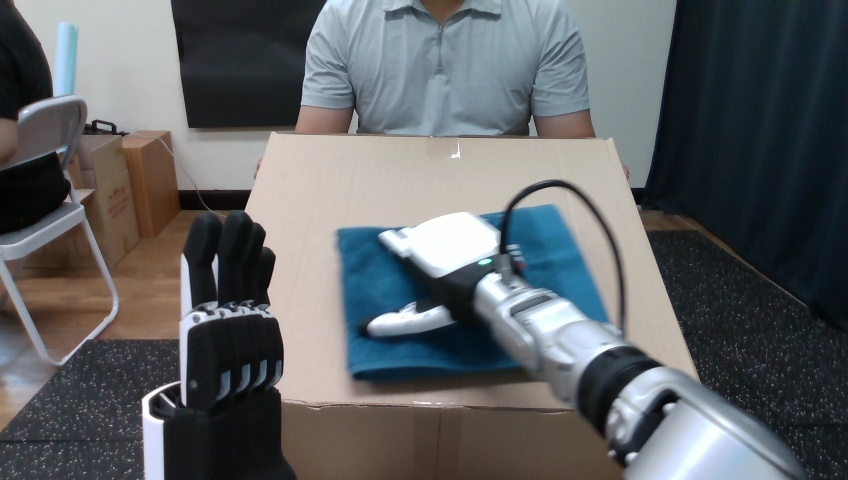left robot hand: (361, 196, 804, 478), (142, 211, 294, 479)
